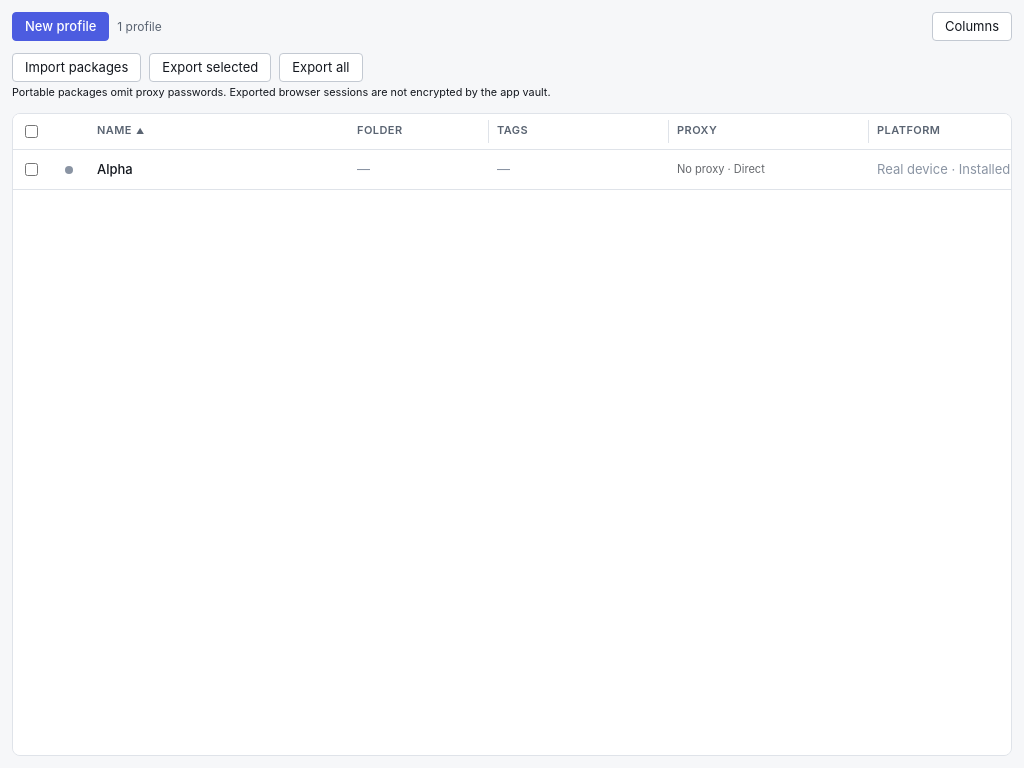
Scenario: keeps rejected tag edits visible for correction
Right-click the button "Alpha" at (115, 169), box [97,160,133,178]
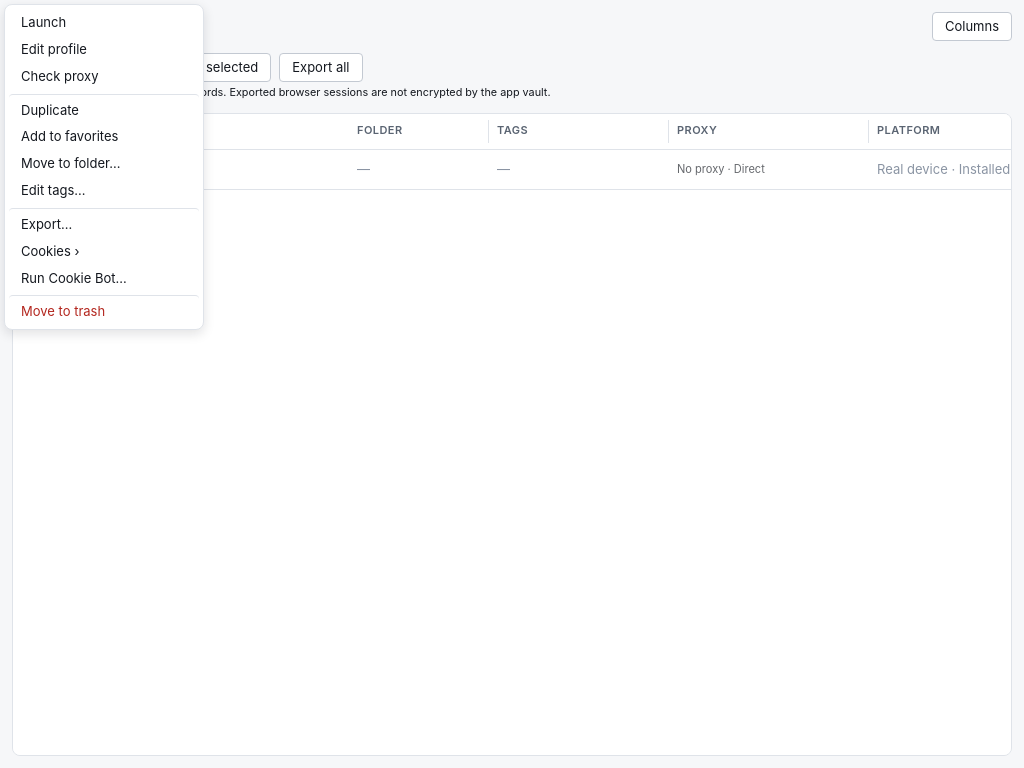
Click the menu item "Edit tags…" at (104, 190), box [9,177,199,204]
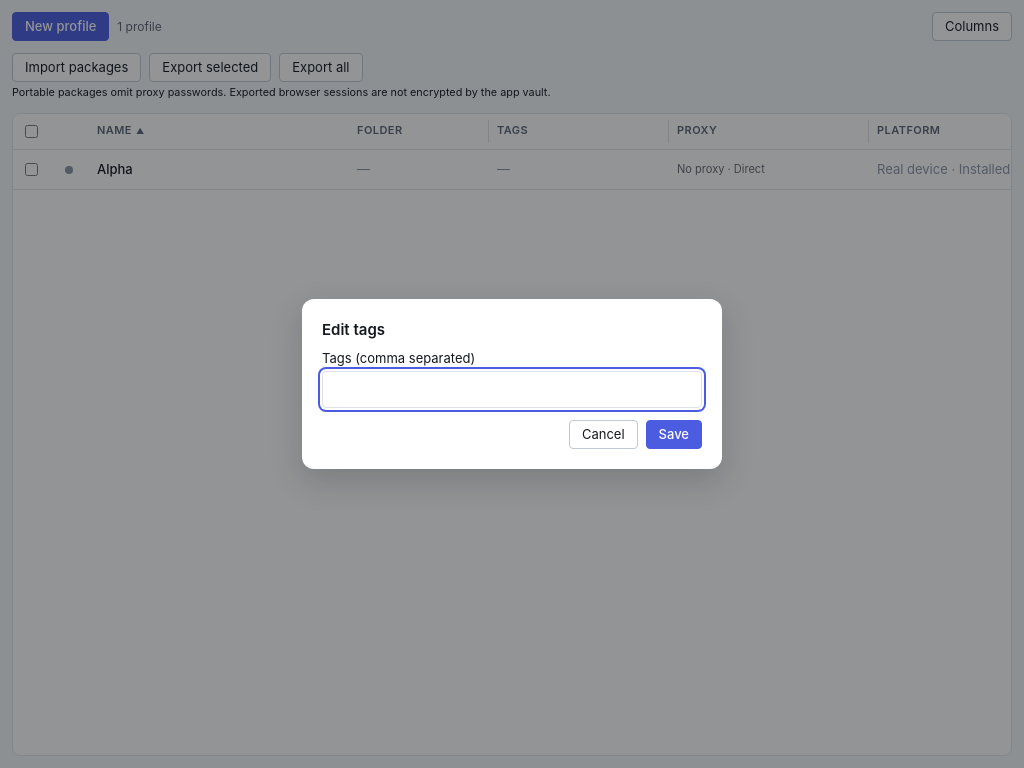
Type "work" into the field at (512, 390), box [322,372,702,408]
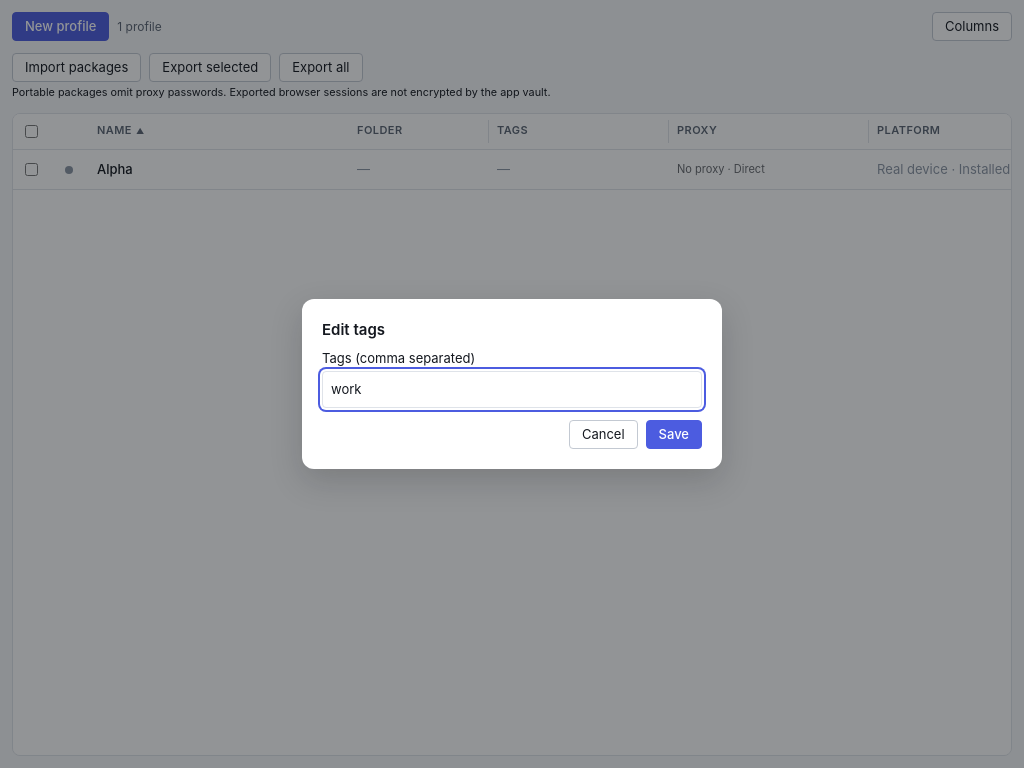
Click the button "Save" at (674, 435), box [646,420,702,449]
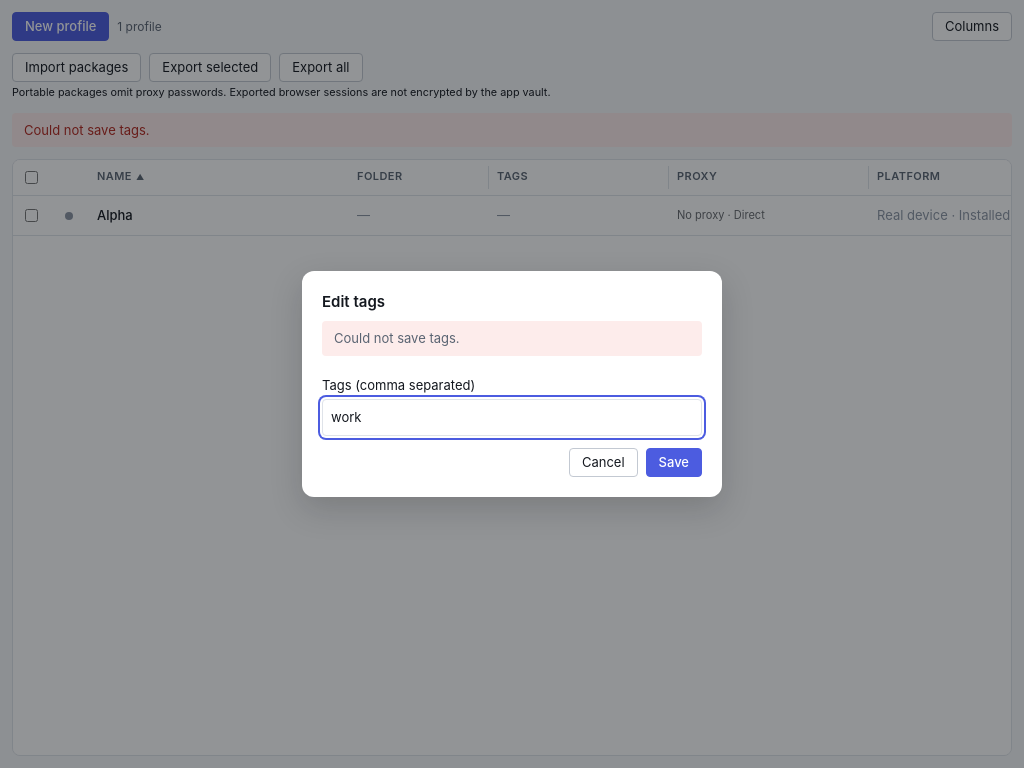
Expected: the message "Could not save tags." below "Edit tags" is shown, [334,330,460,346]
Click the button "Cancel" at (603, 462), box [569,448,638,476]
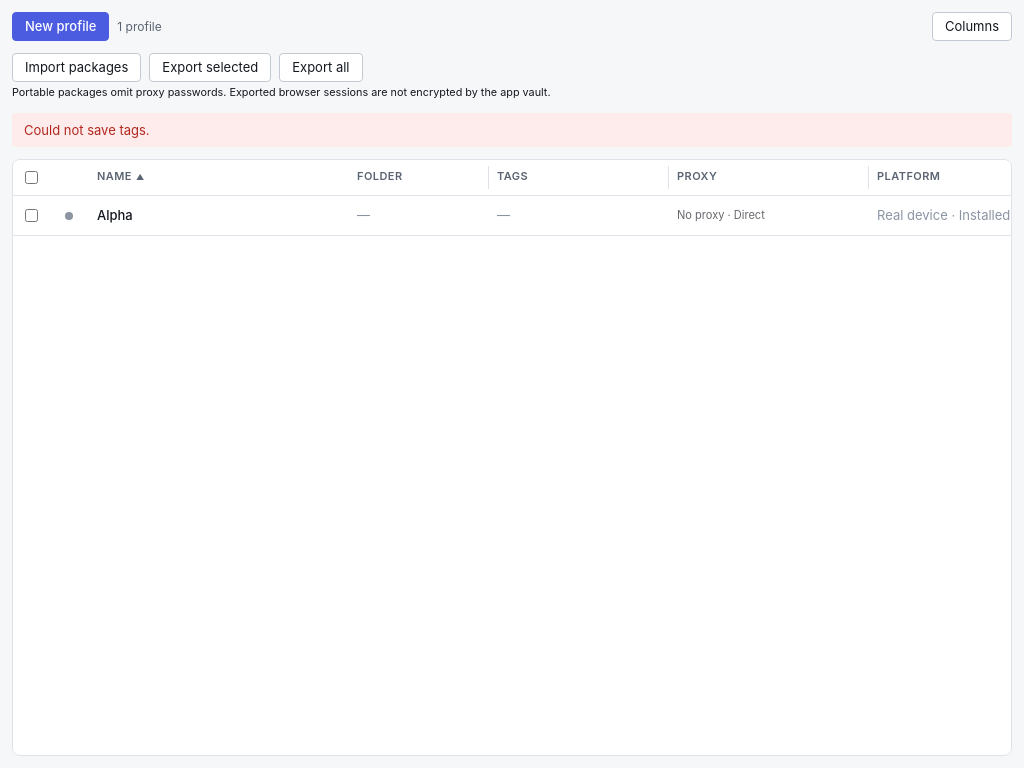
Expected: the dialog is gone
